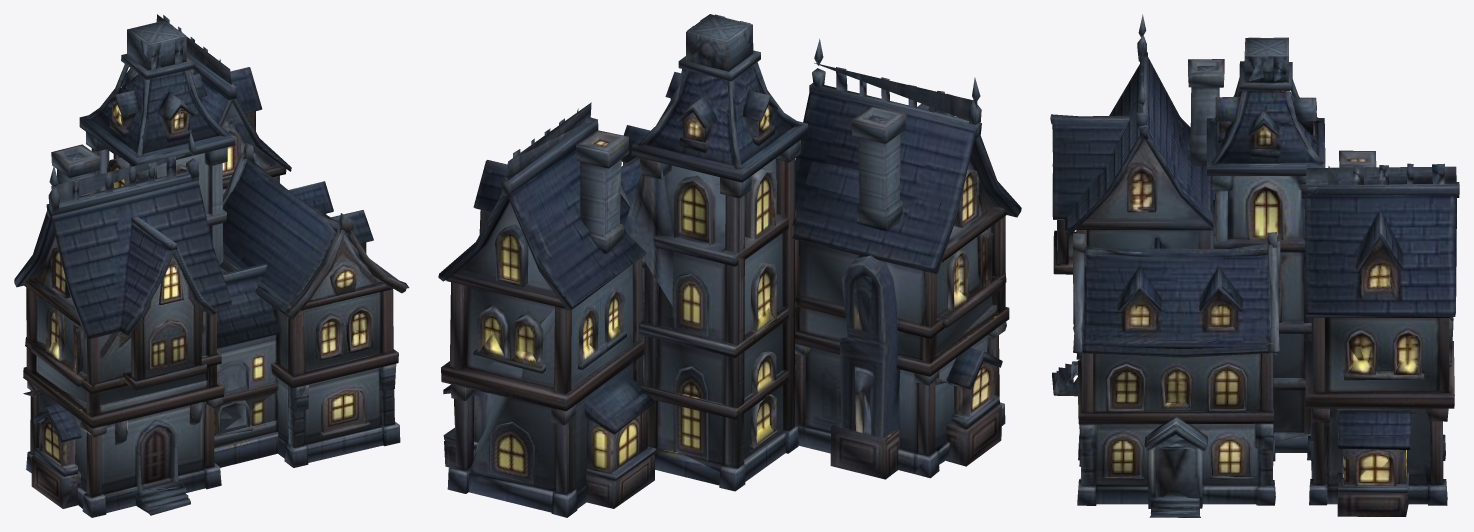
Rendered from townhouse.glb.
3 views of the same model, side by side, from view 1: azimuth 30°, elevation 25°; view 2: azimuth 150°, elevation 25°; view 3: azimuth 270°, elevation 25° (orthographic). The views are drawn at different scales.
Size of the model in its own units: 0.9618 by 1 by 0.9662.
1 material, 1 textured.
